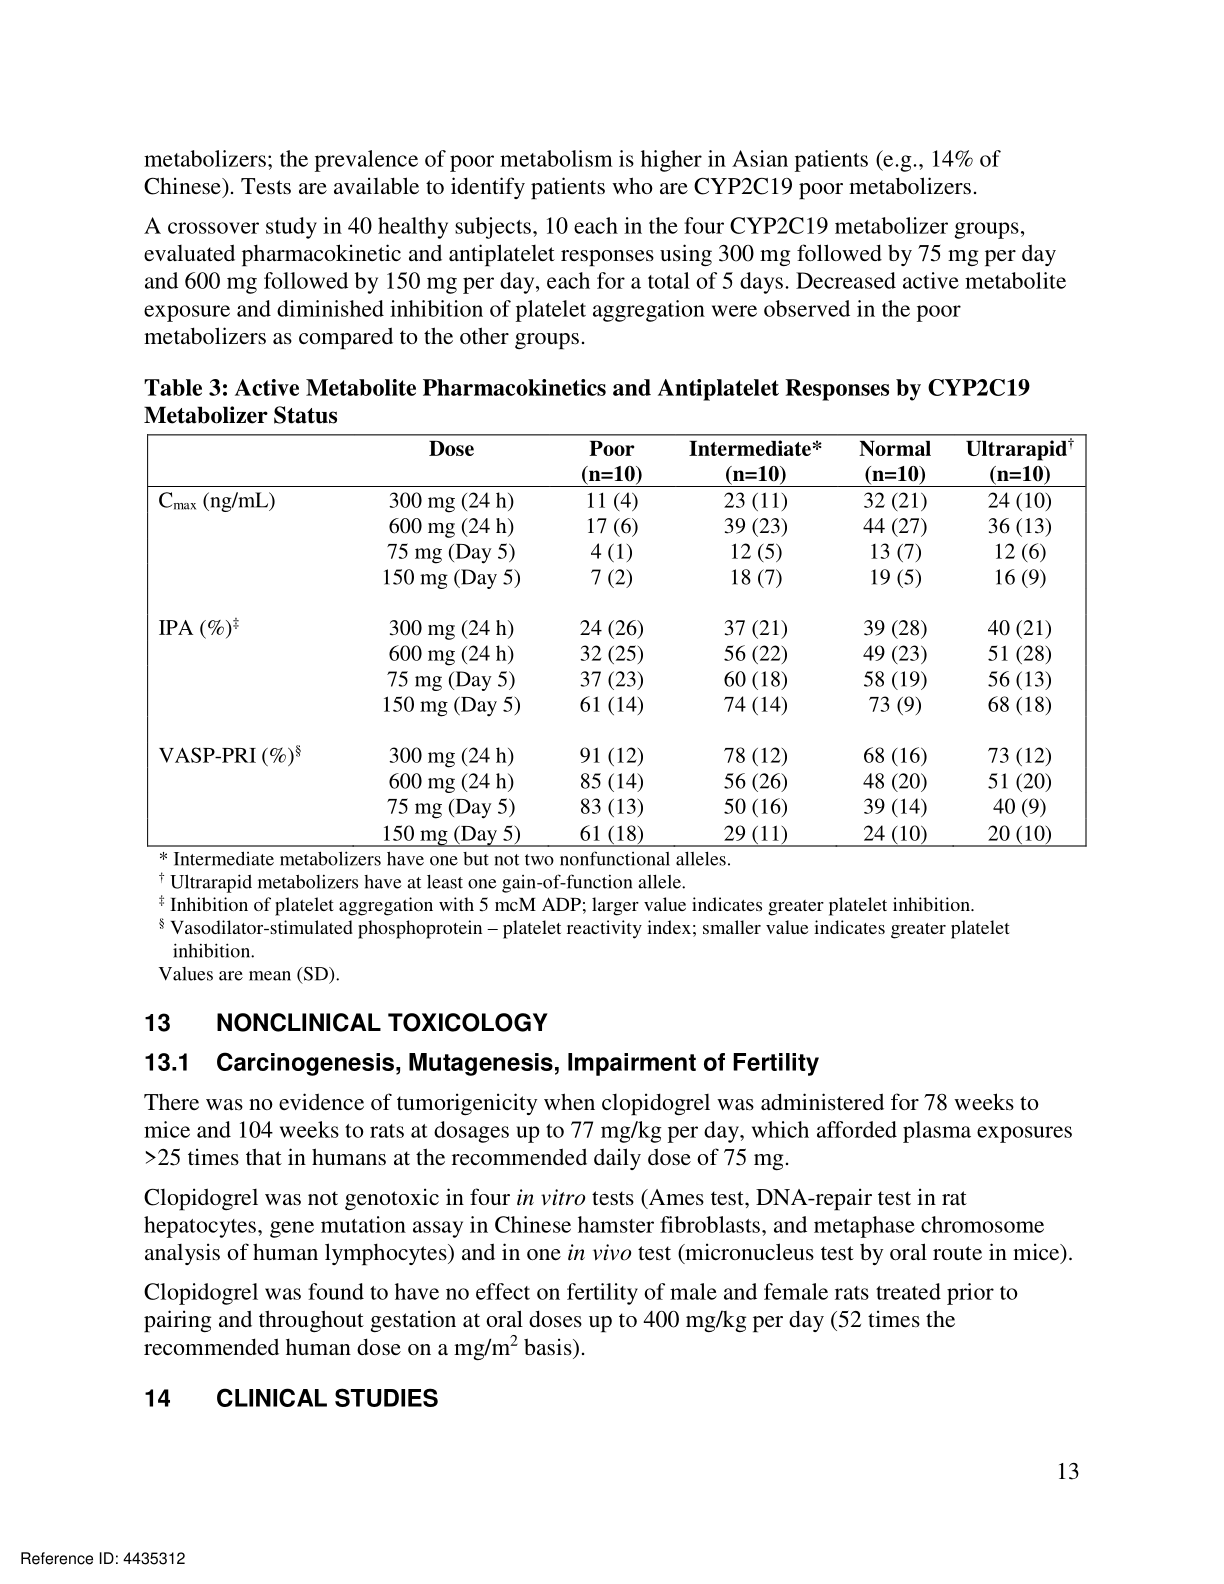partial_lined: (143, 431, 1092, 849)
